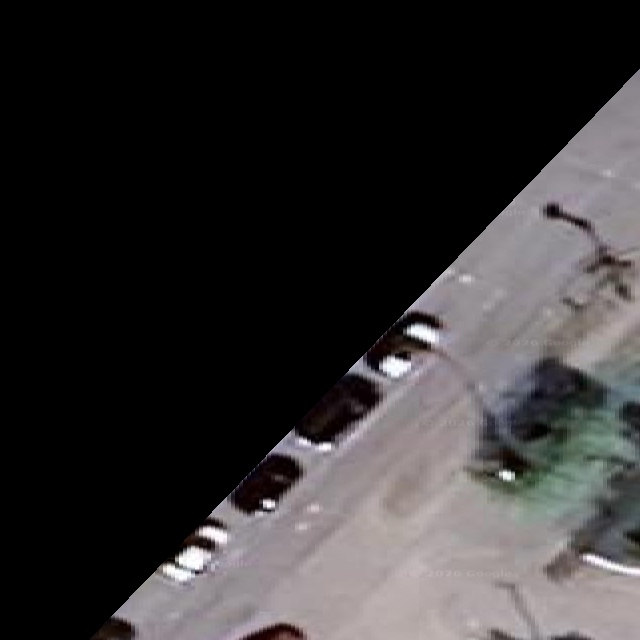car: (294, 373, 380, 450), (364, 311, 443, 378), (158, 517, 227, 583), (230, 453, 302, 514), (239, 623, 306, 639), (91, 617, 136, 639)
